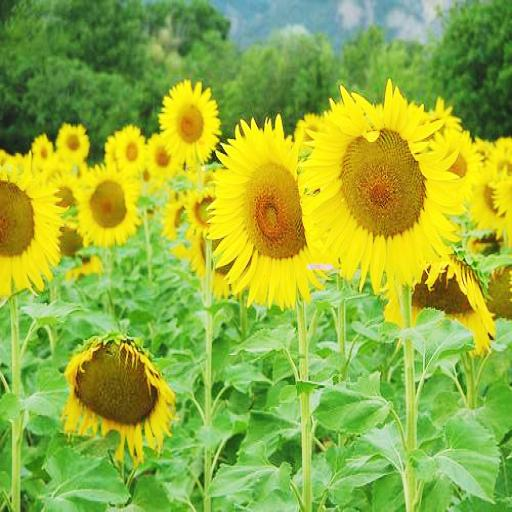sunflower: (301, 85, 473, 280), (214, 119, 330, 311), (67, 339, 172, 452), (161, 82, 219, 165), (78, 168, 138, 240), (112, 128, 148, 168), (58, 123, 86, 160)
